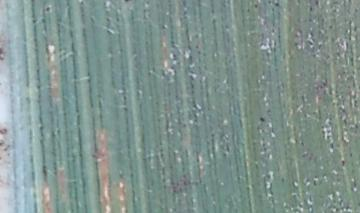tarspot: (1, 46, 6, 61), (257, 116, 267, 123), (298, 139, 306, 147), (1, 127, 8, 136), (328, 142, 335, 151), (311, 178, 318, 187), (114, 15, 121, 24), (279, 175, 286, 184), (273, 2, 281, 9), (104, 15, 111, 23), (340, 159, 346, 168), (348, 150, 354, 159), (44, 7, 51, 14), (327, 23, 334, 30), (292, 40, 299, 47), (253, 2, 259, 10), (313, 1, 320, 7), (308, 5, 314, 12), (122, 1, 131, 3)
